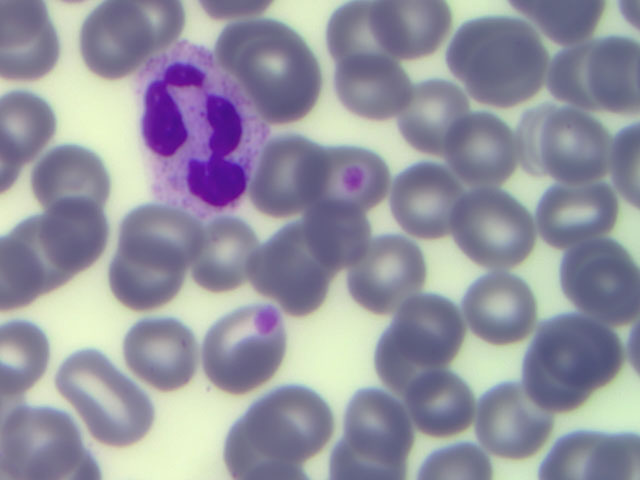Platelets: (256, 309, 278, 335), (346, 169, 365, 189)
RBC: (40, 153, 130, 243), (454, 21, 541, 99), (58, 359, 141, 440), (458, 191, 538, 268), (521, 334, 598, 413), (476, 383, 549, 464), (331, 1, 401, 84), (467, 272, 536, 352), (567, 248, 640, 319), (252, 43, 322, 116), (131, 320, 200, 392), (252, 389, 327, 455), (375, 325, 447, 393), (540, 321, 618, 383), (13, 413, 84, 480), (200, 221, 265, 294), (222, 421, 305, 478), (357, 243, 427, 310), (223, 26, 311, 79), (541, 116, 608, 185), (11, 218, 78, 286), (265, 136, 321, 214), (397, 168, 460, 237), (124, 214, 197, 272), (400, 293, 459, 364), (113, 241, 180, 302), (343, 59, 411, 119), (257, 245, 321, 308), (543, 187, 613, 243), (1, 1, 60, 67), (452, 118, 511, 184), (84, 1, 136, 75), (350, 399, 411, 462), (50, 205, 111, 267), (400, 84, 459, 148), (376, 1, 446, 53), (4, 86, 51, 160), (207, 327, 257, 396), (553, 50, 616, 104), (311, 205, 368, 264), (524, 111, 573, 179), (588, 44, 640, 108), (416, 374, 469, 434), (524, 1, 608, 37), (111, 1, 181, 44), (1, 324, 46, 387), (2, 237, 40, 310), (618, 131, 640, 213), (197, 1, 267, 16)
WBC: (140, 62, 246, 211)
